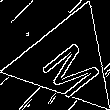M_NE: (30, 26, 103, 95)
